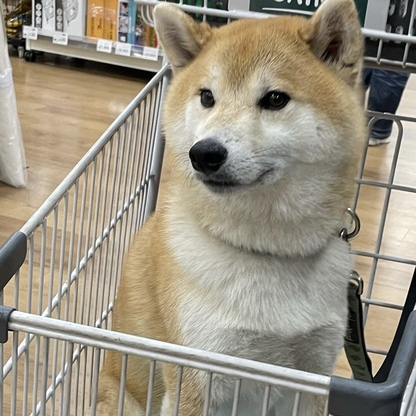shiba: (89, 1, 371, 416)
